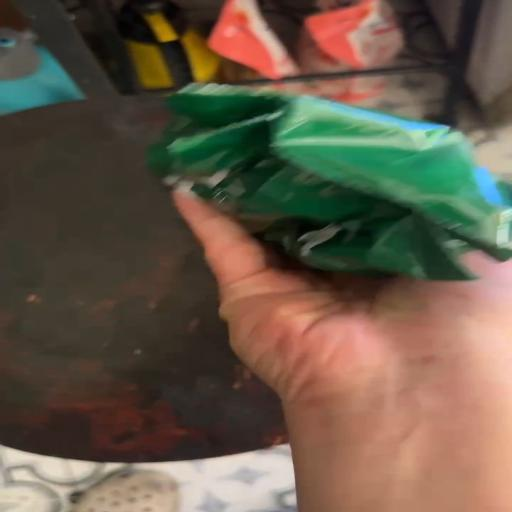cafe_xay: (149, 85, 511, 280)
